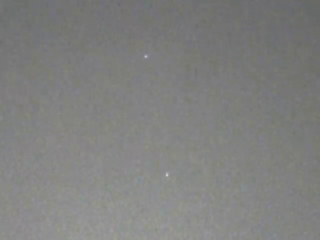Target: (145, 56, 167, 175)
